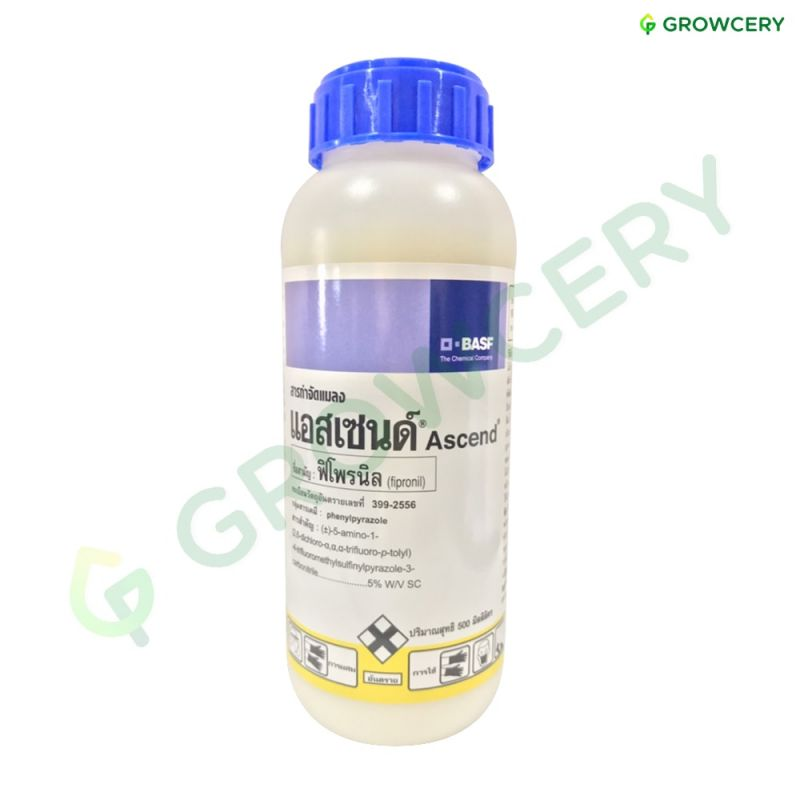Insecticide: (274, 46, 519, 750)
